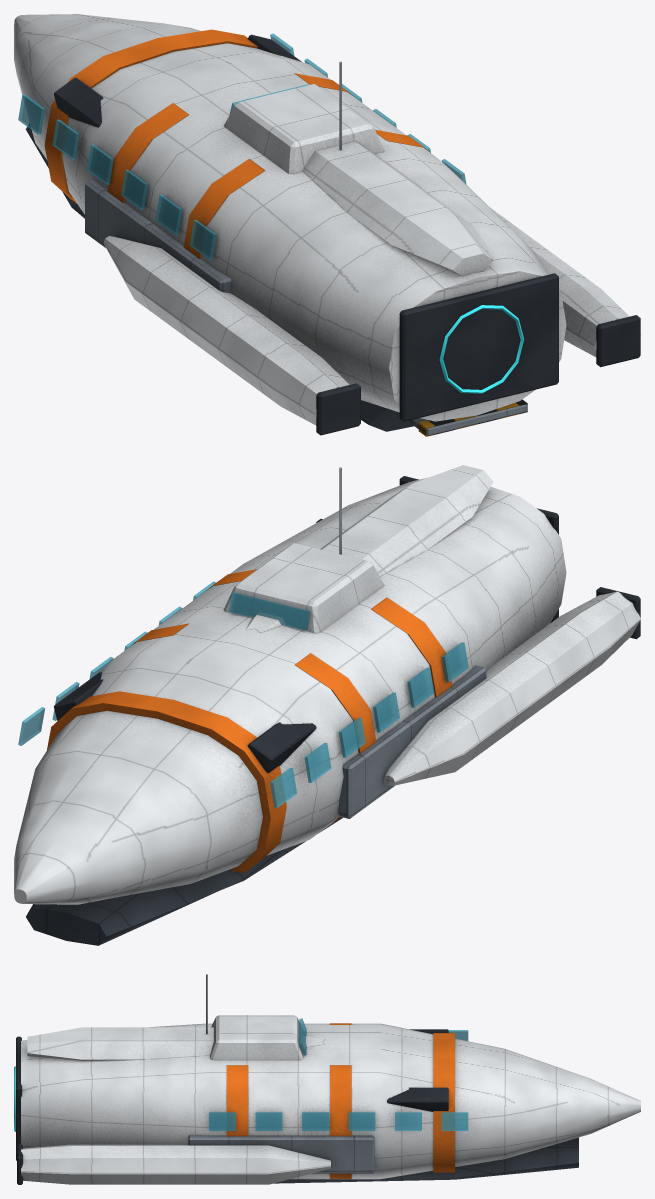
File: casco_nave_grande.fbx
The picture shows the model from 3 angles, top to bottom: view 1: azimuth 30°, elevation 25°; view 2: azimuth 150°, elevation 25°; view 3: azimuth 270°, elevation 25°; orthographic projection. The views are drawn at different scales.
Visible parts, largest first — view 1: casco_nave_grande, casco_nave_grande_cristal, casco_nave_grande_rampa, casco_nave_grande_neon; view 2: casco_nave_grande, casco_nave_grande_cristal; view 3: casco_nave_grande, casco_nave_grande_cristal.
Boxes of the visible parts, left/top/right/bottom form: casco_nave_grande: left=14, top=14, right=640, bottom=435; casco_nave_grande_cristal: left=18, top=33, right=466, bottom=259; casco_nave_grande_rampa: left=407, top=399, right=527, bottom=436; casco_nave_grande_neon: left=439, top=305, right=524, bottom=393; casco_nave_grande: left=14, top=465, right=640, bottom=945; casco_nave_grande_cristal: left=18, top=581, right=468, bottom=807; casco_nave_grande: left=16, top=974, right=640, bottom=1184; casco_nave_grande_cristal: left=209, top=1018, right=468, bottom=1130.
Bounding box in the file's own units: 12.8 × 9.86 × 30.34.
Materials: 3 (3 with a texture image).
